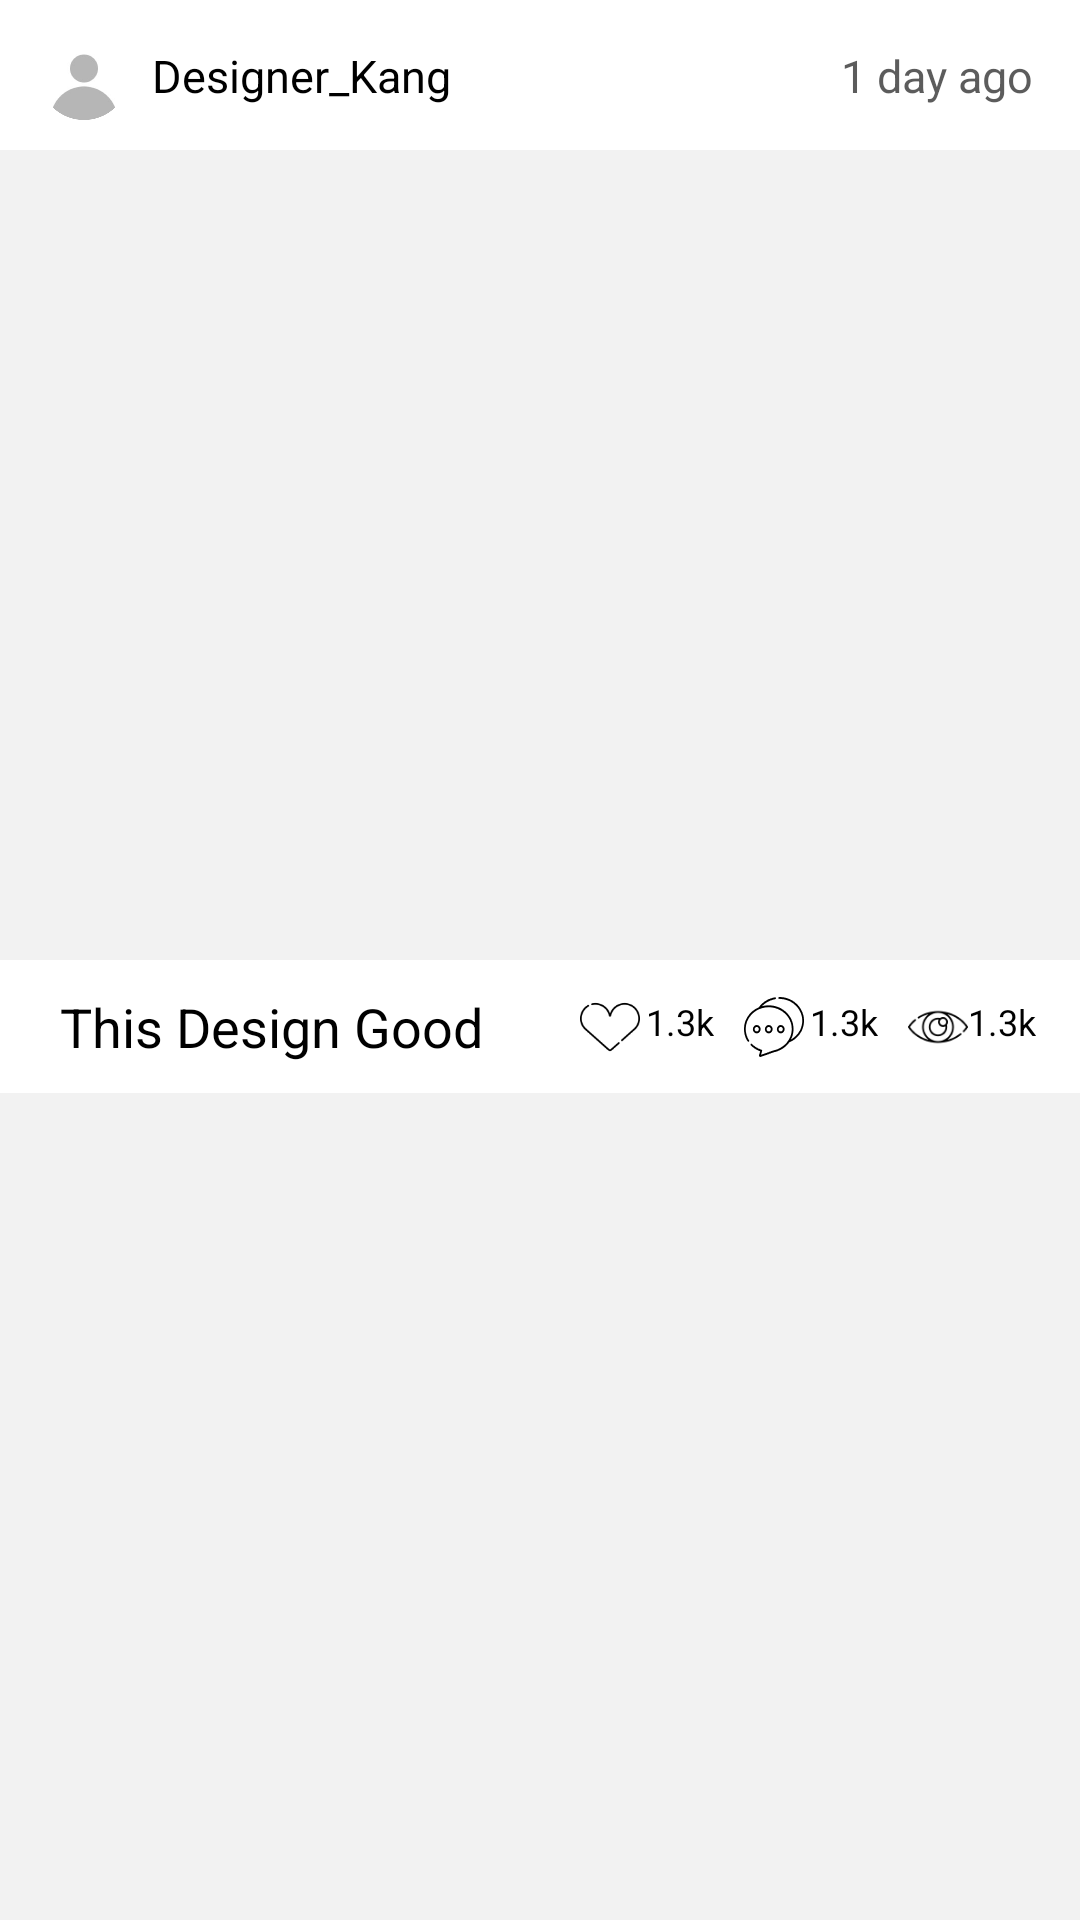

Icons on this 1080 × 1920 Android screen, each with its box as bbox(x1, y1, x2, y2):
comment: bbox(744, 997, 804, 1057)
viewer: bbox(908, 1010, 968, 1044)
프로필: bbox(53, 54, 115, 120)
